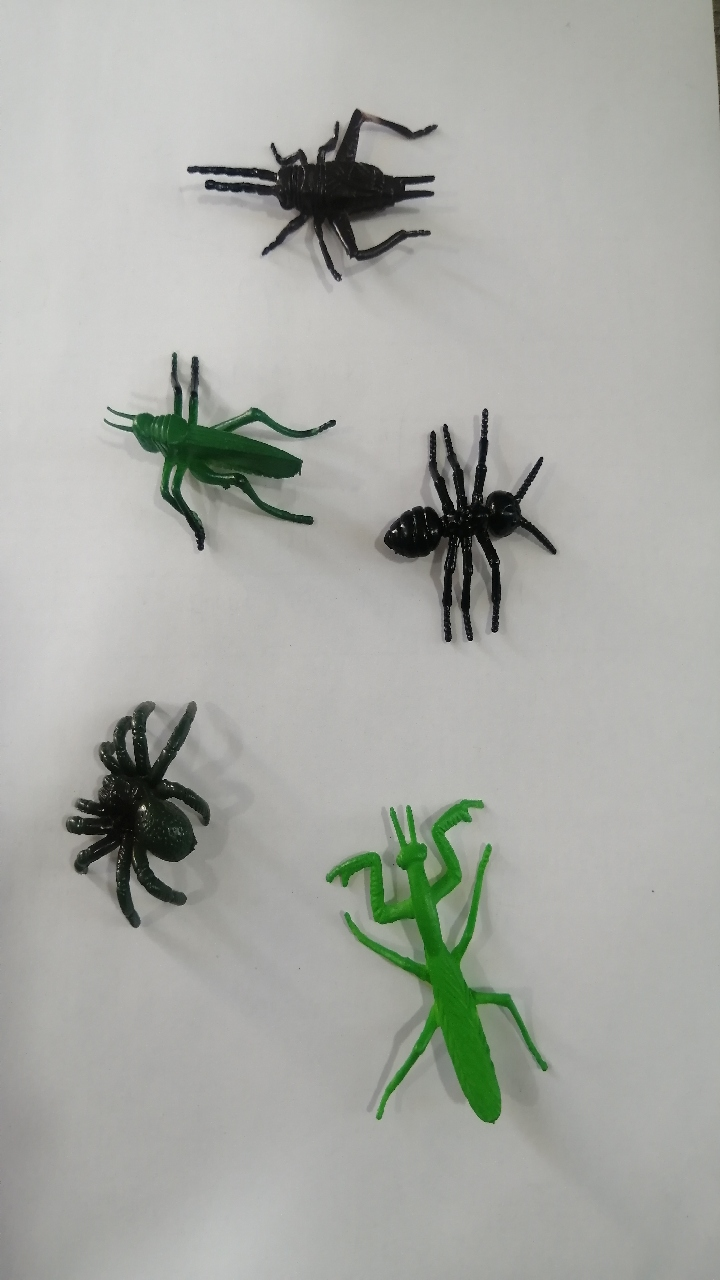intruso: (295, 768, 583, 1159), (17, 662, 255, 957), (58, 328, 349, 568), (155, 75, 461, 295), (358, 371, 583, 662)
